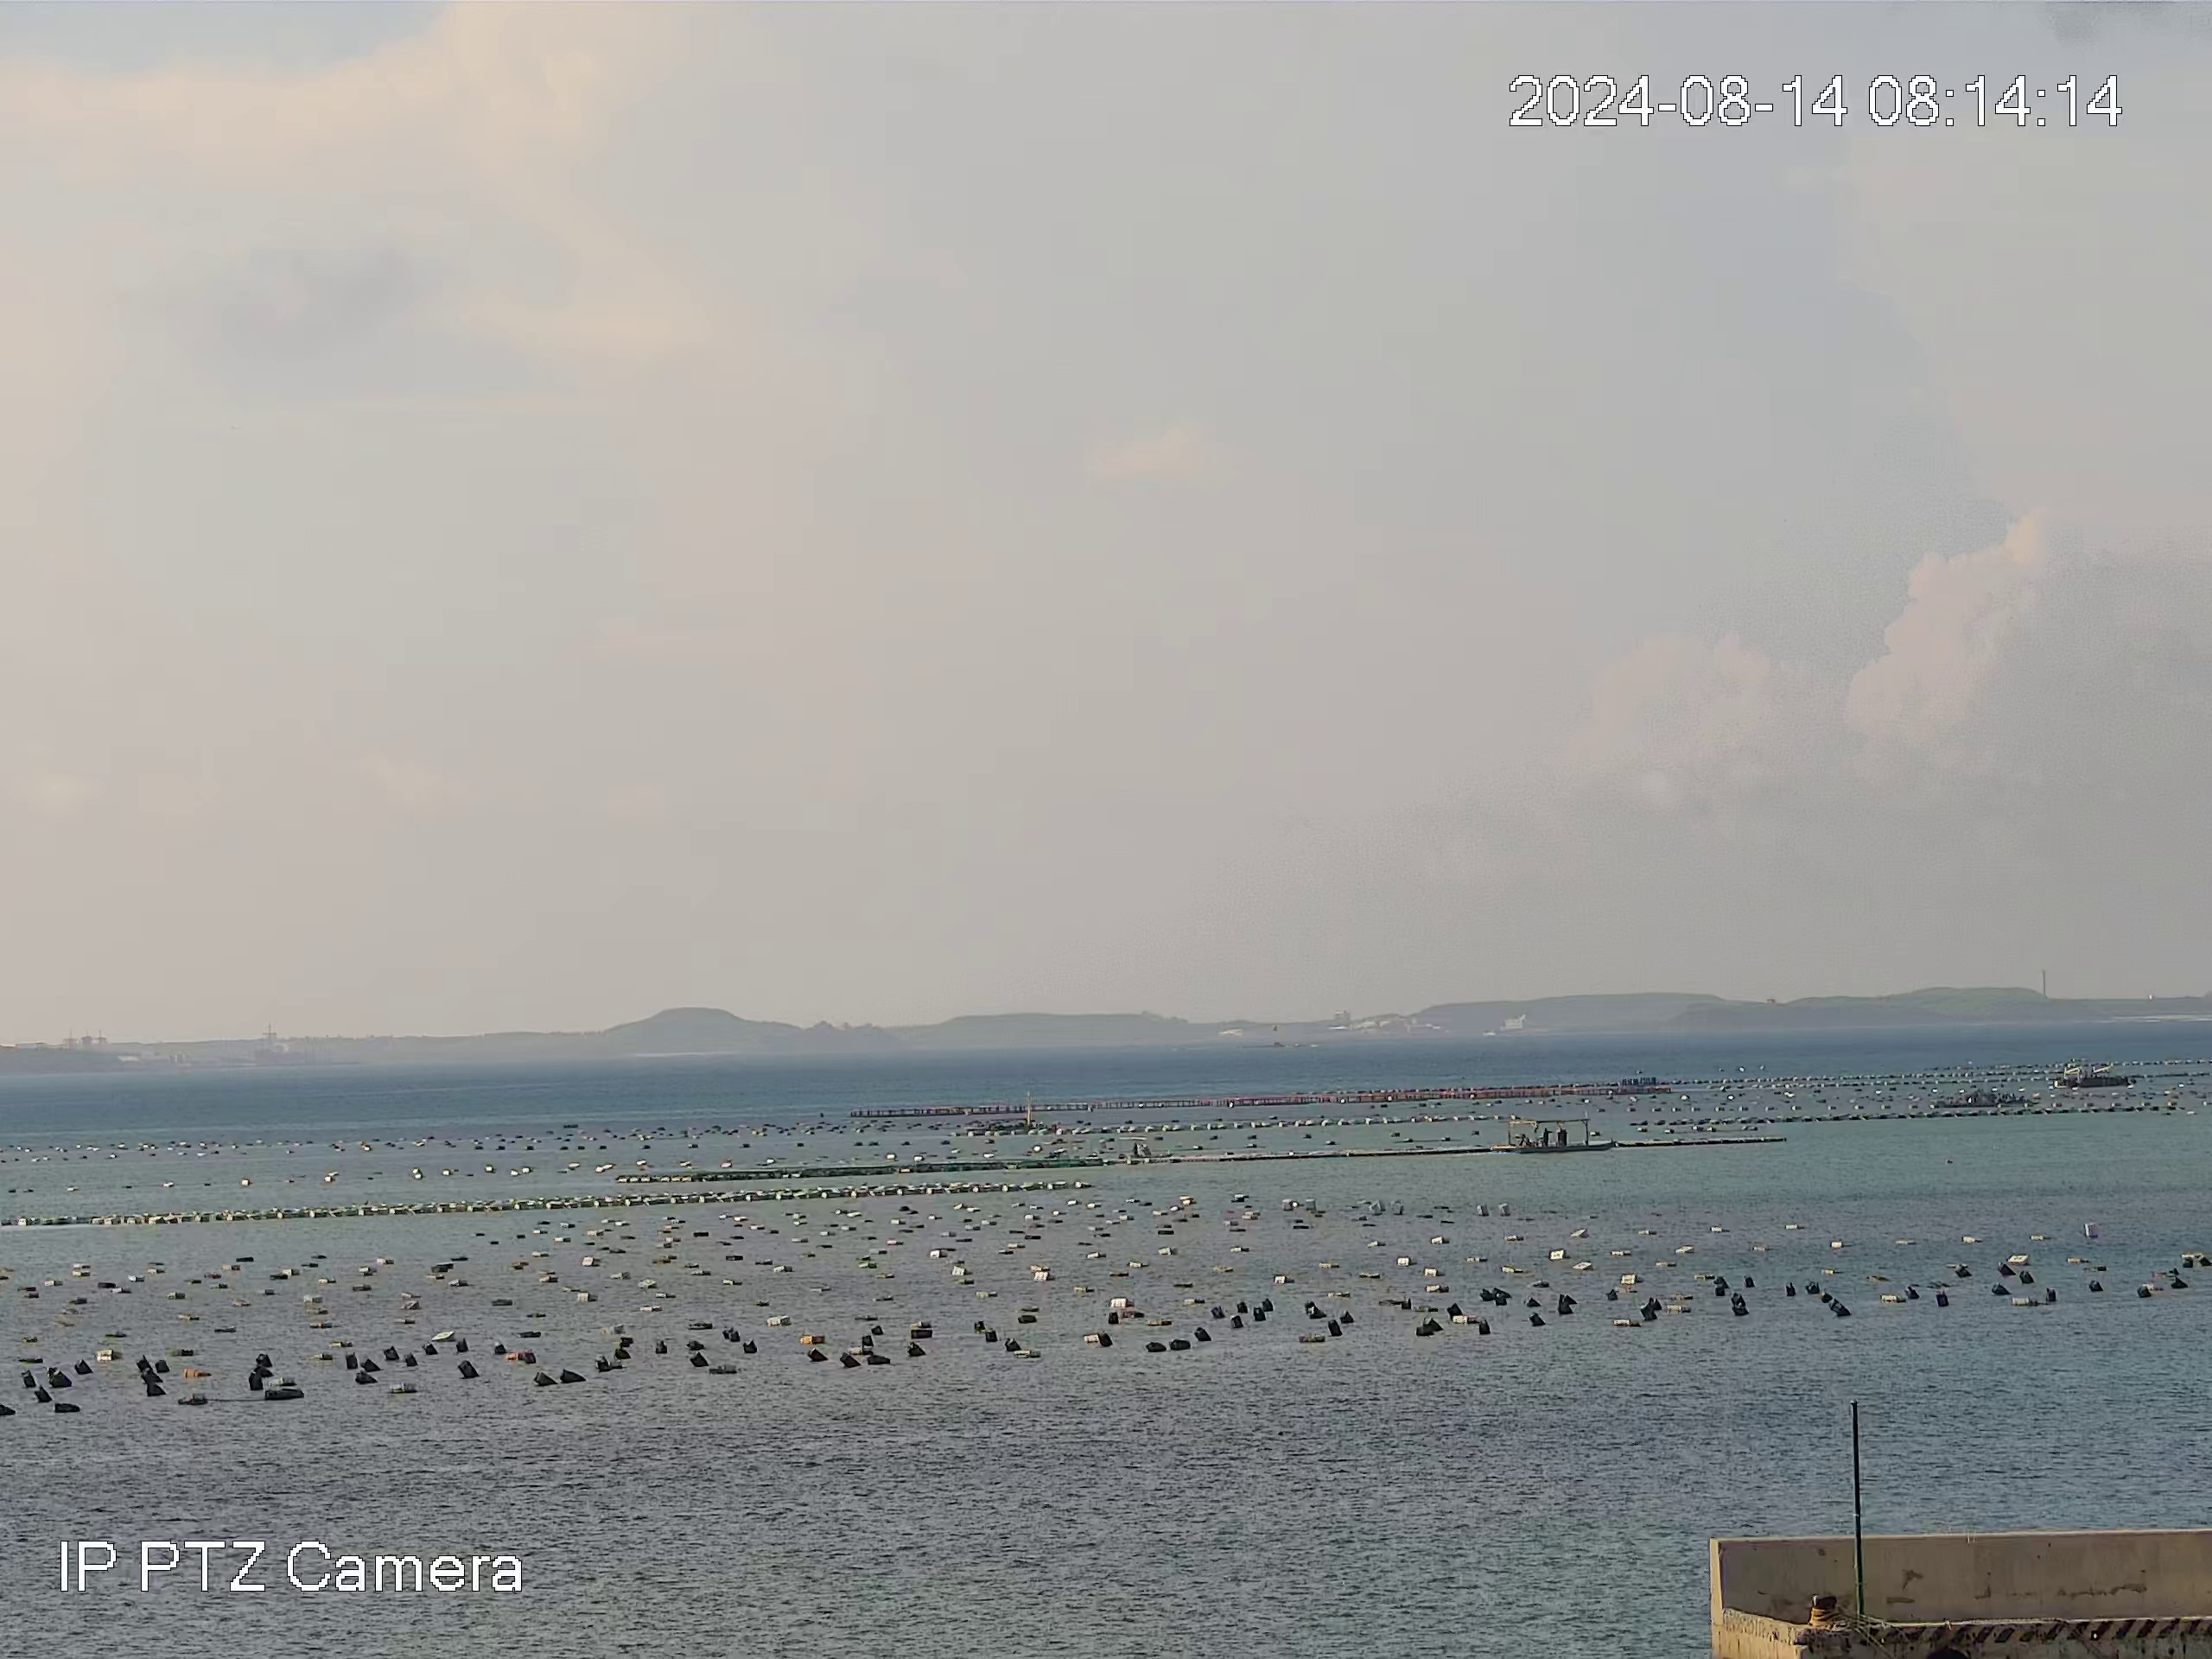boat: (1491, 1116, 1619, 1148), (2053, 1065, 2135, 1090), (1933, 1089, 2040, 1107)
